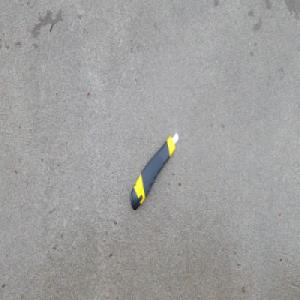Cutter: (130, 129, 180, 211)
